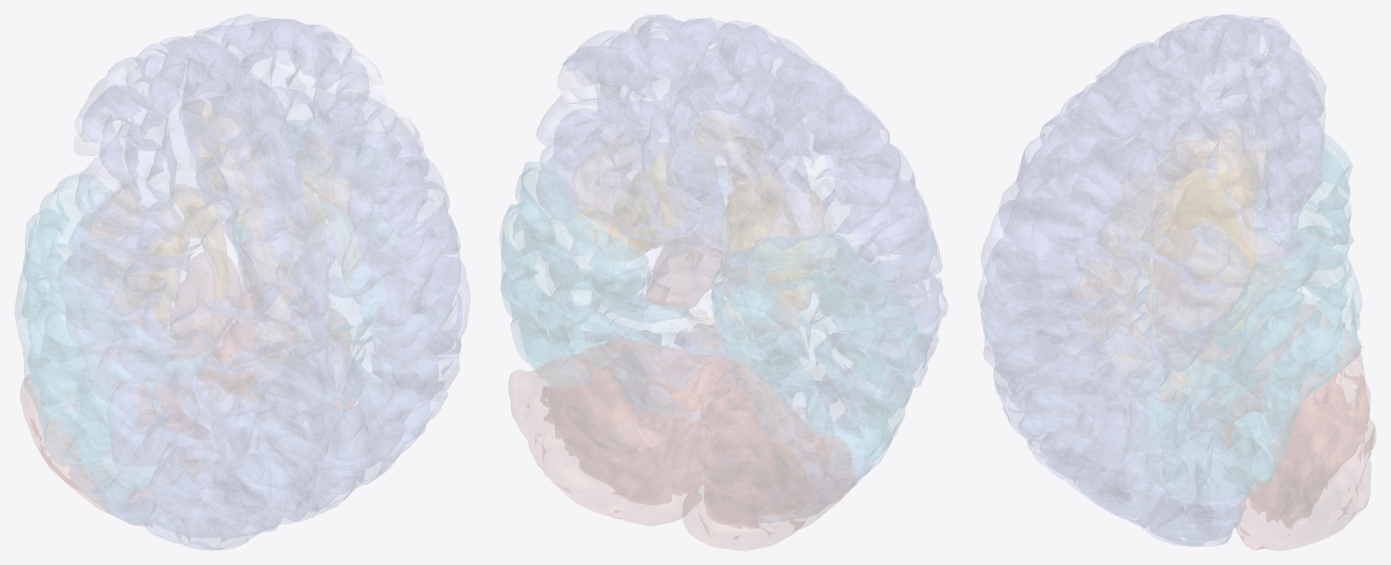
File: brain_shell.fbx
3 views of the same model, side by side, from view 1: azimuth 30°, elevation 25°; view 2: azimuth 150°, elevation 25°; view 3: azimuth 270°, elevation 25° (orthographic). The views are drawn at different scales.
Parts seen in each view (by area): view 1: SuperiorFrontalMPFC, SuperiorFrontalMPFC_R, RostralMiddleFrontalDLPFC_R, InferiorParietalAngular, MiddleTemporal, RostralMiddleFrontalDLPFC, Postcentral, SuperiorParietal_R, SupramarginalTPJ, Precentral, Postcentral_R, Precentral_R (+30 smaller); view 2: CerebellumCortex_R, CerebellumCortex, RostralMiddleFrontalDLPFC, SuperiorTemporalWernicke, SuperiorFrontalMPFC, RostralMiddleFrontalDLPFC_R, InferiorTemporal, LateralOrbitofrontal, MiddleTemporal, InferiorTemporal_R, SuperiorFrontalMPFC_R, Precentral (+38 smaller); view 3: SuperiorFrontalMPFC_R, CerebellumCortex_R, InferiorParietalAngular_R, SuperiorFrontalMPFC, RostralMiddleFrontalDLPFC_R, InferiorTemporal_R, Postcentral_R, MiddleTemporal_R, SupramarginalTPJ_R, LateralOrbitofrontal_R, Precentral_R, SuperiorTemporalWernicke_R (+31 smaller).
Boxes of the visible parts, box(x1,y1,x2,y2) form: SuperiorFrontalMPFC: box(167, 36, 328, 321); SuperiorFrontalMPFC_R: box(221, 19, 405, 297); RostralMiddleFrontalDLPFC_R: box(227, 14, 429, 187); InferiorParietalAngular: box(112, 429, 271, 537); MiddleTemporal: box(15, 210, 155, 504); RostralMiddleFrontalDLPFC: box(77, 46, 220, 208); Postcentral: box(58, 263, 327, 417); SuperiorParietal_R: box(312, 328, 438, 512); SupramarginalTPJ: box(78, 338, 226, 466); Precentral: box(67, 223, 313, 370); Postcentral_R: box(349, 197, 460, 386); Precentral_R: box(349, 157, 450, 349); CerebellumCortex_R: box(509, 338, 724, 525); CerebellumCortex: box(663, 355, 857, 550); RostralMiddleFrontalDLPFC: box(731, 45, 877, 162); SuperiorTemporalWernicke: box(766, 233, 927, 370); SuperiorFrontalMPFC: box(694, 25, 846, 189); RostralMiddleFrontalDLPFC_R: box(559, 14, 695, 109); InferiorTemporal: box(741, 291, 891, 473); LateralOrbitofrontal: box(673, 108, 824, 255); MiddleTemporal: box(770, 273, 912, 461); InferiorTemporal_R: box(501, 243, 585, 386); SuperiorFrontalMPFC_R: box(646, 17, 796, 172); Precentral: box(828, 143, 930, 276); SuperiorFrontalMPFC_R: box(1004, 49, 1268, 258); CerebellumCortex_R: box(1203, 365, 1375, 550); InferiorParietalAngular_R: box(1018, 381, 1173, 517); SuperiorFrontalMPFC: box(999, 14, 1259, 261); RostralMiddleFrontalDLPFC_R: box(1079, 71, 1306, 259); InferiorTemporal_R: box(1197, 279, 1360, 503); Postcentral_R: box(980, 282, 1211, 371); MiddleTemporal_R: box(1133, 281, 1348, 503); SupramarginalTPJ_R: box(1034, 322, 1187, 451); LateralOrbitofrontal_R: box(1231, 85, 1325, 262); Precentral_R: box(992, 249, 1244, 322); SuperiorTemporalWernicke_R: box(1145, 241, 1335, 449).
Size of the model in its own units: 13863 by 16998 by 12350.
